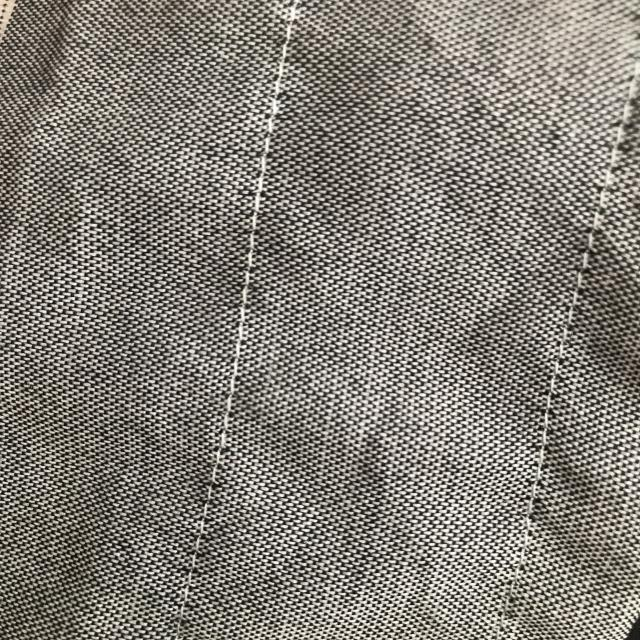good: (225, 267, 267, 371), (166, 542, 200, 626), (568, 251, 602, 317)
